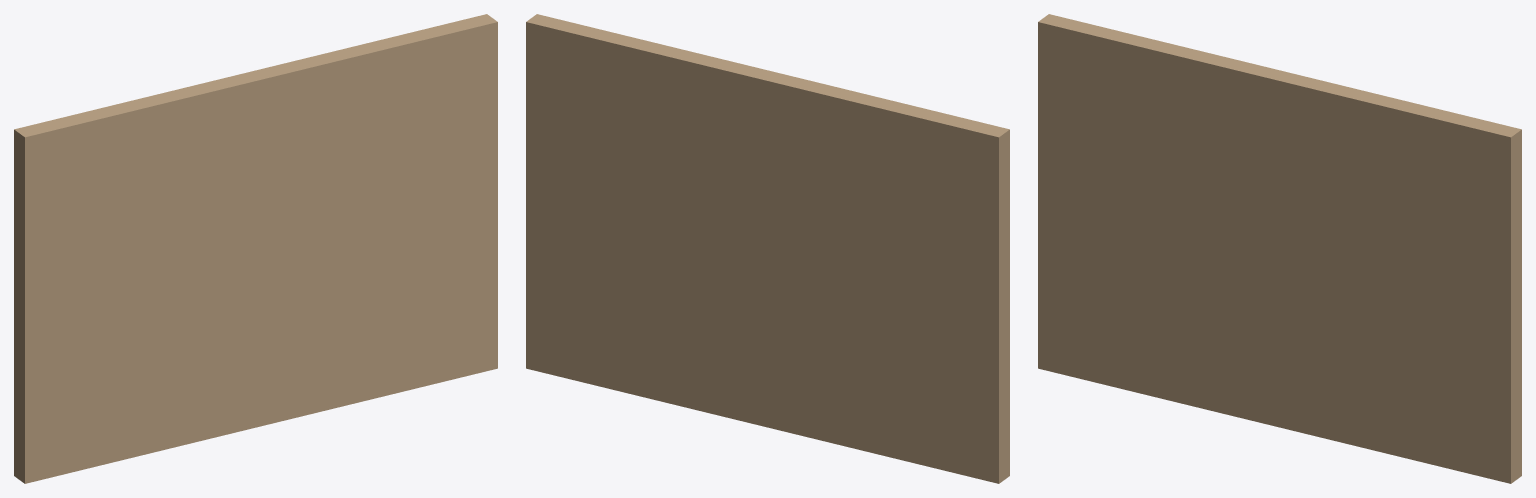
Rendered from bulletin_board.glb.
3 views of the same model, side by side, from view 1: azimuth 30°, elevation 25°; view 2: azimuth 150°, elevation 25°; view 3: azimuth 330°, elevation 25° (orthographic).
Parts seen in each view (by area): view 1: board; view 2: board; view 3: board.
Boxes of the visible parts, x1,y1,x2,y2 form: board: (14, 14, 497, 483); board: (526, 14, 1009, 483); board: (1038, 14, 1521, 483).
Size of the model in its own units: 2 by 1.4 by 0.0801.
